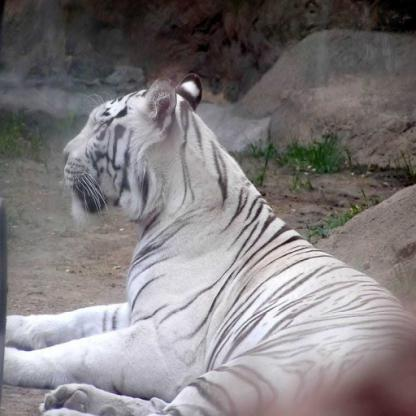Tiger: (34, 67, 397, 397)
